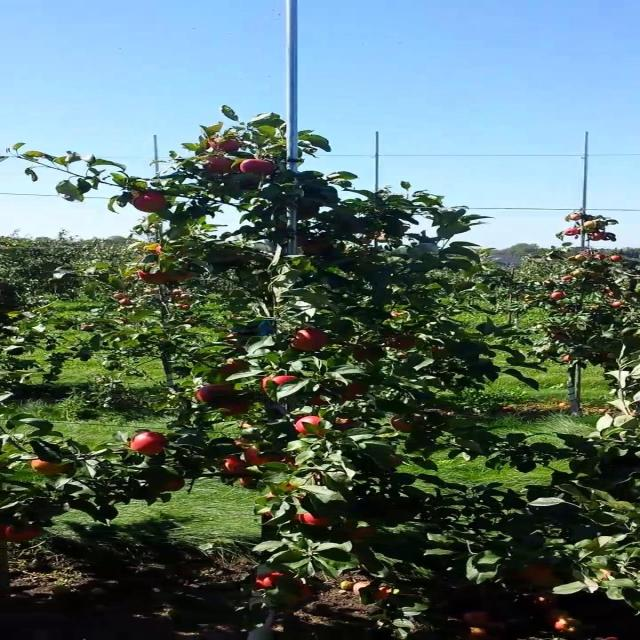apple: (255, 572, 312, 606), (518, 561, 566, 587), (128, 430, 165, 454), (194, 382, 236, 403), (290, 327, 326, 351), (243, 445, 285, 465), (28, 457, 70, 475), (131, 191, 166, 212), (260, 374, 298, 392), (237, 157, 275, 175), (2, 524, 39, 542), (220, 455, 252, 475), (202, 156, 234, 174), (292, 415, 320, 435), (205, 136, 239, 152), (297, 511, 331, 527), (215, 400, 250, 415), (218, 359, 250, 375), (339, 382, 364, 402), (345, 525, 376, 541), (136, 269, 166, 284), (351, 347, 382, 361), (351, 581, 373, 599), (303, 239, 330, 253), (373, 584, 393, 602), (389, 338, 417, 350), (389, 417, 412, 431), (593, 567, 613, 583), (165, 269, 191, 281), (302, 240, 326, 253), (163, 478, 184, 491), (334, 417, 356, 429), (238, 476, 258, 488), (307, 394, 326, 406), (233, 436, 252, 447), (294, 235, 307, 246), (150, 243, 162, 254)
